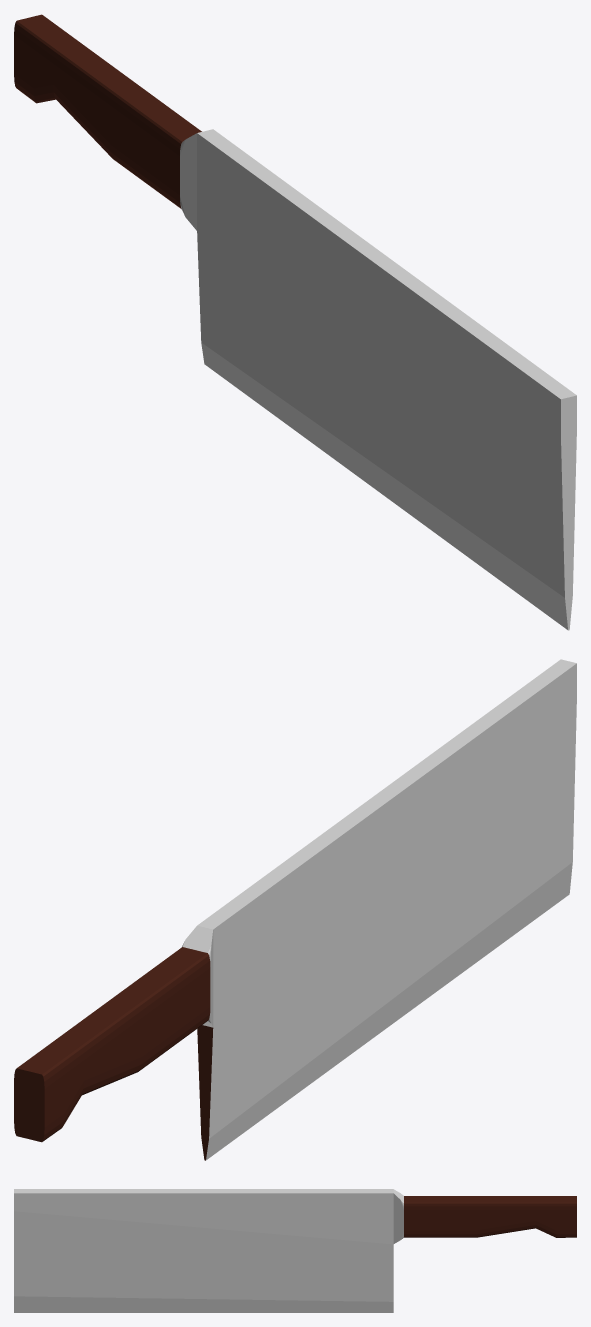
File: knife.fbx
3 views of the same model, one above another, from view 1: azimuth 30°, elevation 25°; view 2: azimuth 150°, elevation 25°; view 3: azimuth 270°, elevation 25° (orthographic). The views are drawn at different scales.
Visible parts, largest first — view 1: Cube; view 2: Cube; view 3: Cube.
Part boxes in pixels (<box>): Cube: <box>14,14,576,630</box>; Cube: <box>14,659,576,1160</box>; Cube: <box>14,1189,576,1312</box>.
Bounding box in the file's own units: 32.67 × 237 × 996.
